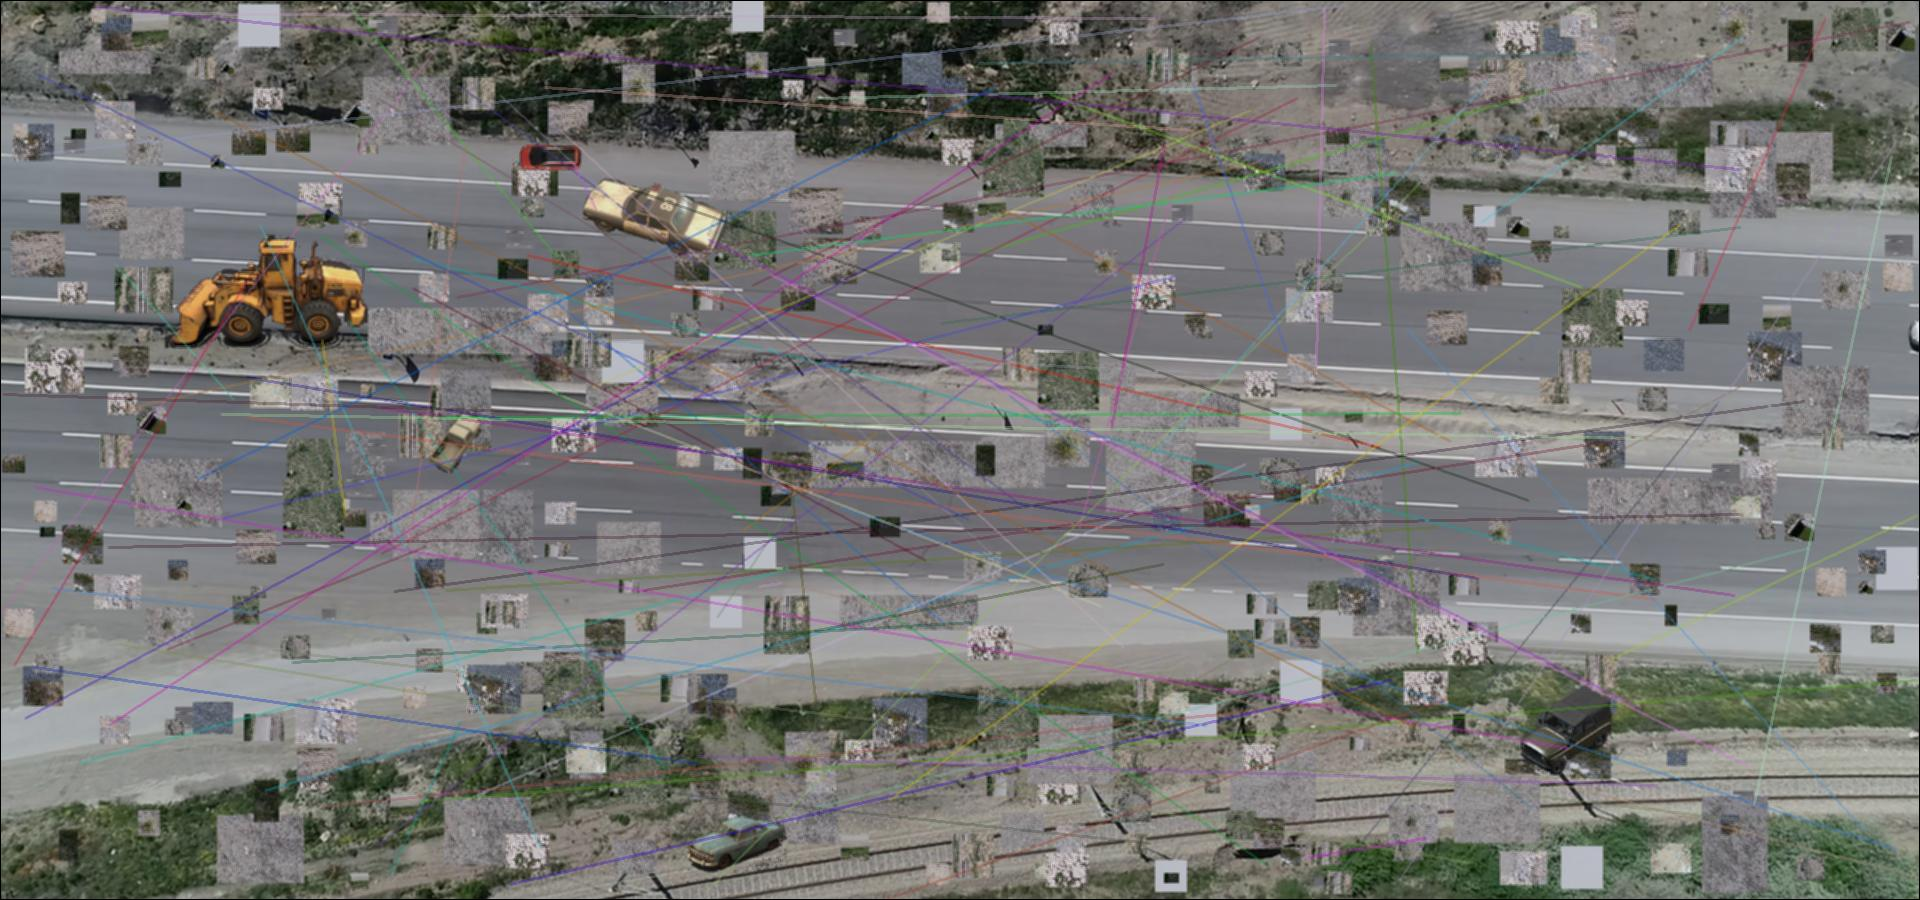arac: (165, 235, 373, 348), (583, 173, 729, 256), (1521, 684, 1613, 775), (688, 812, 787, 872), (425, 411, 486, 473), (519, 141, 584, 173)
